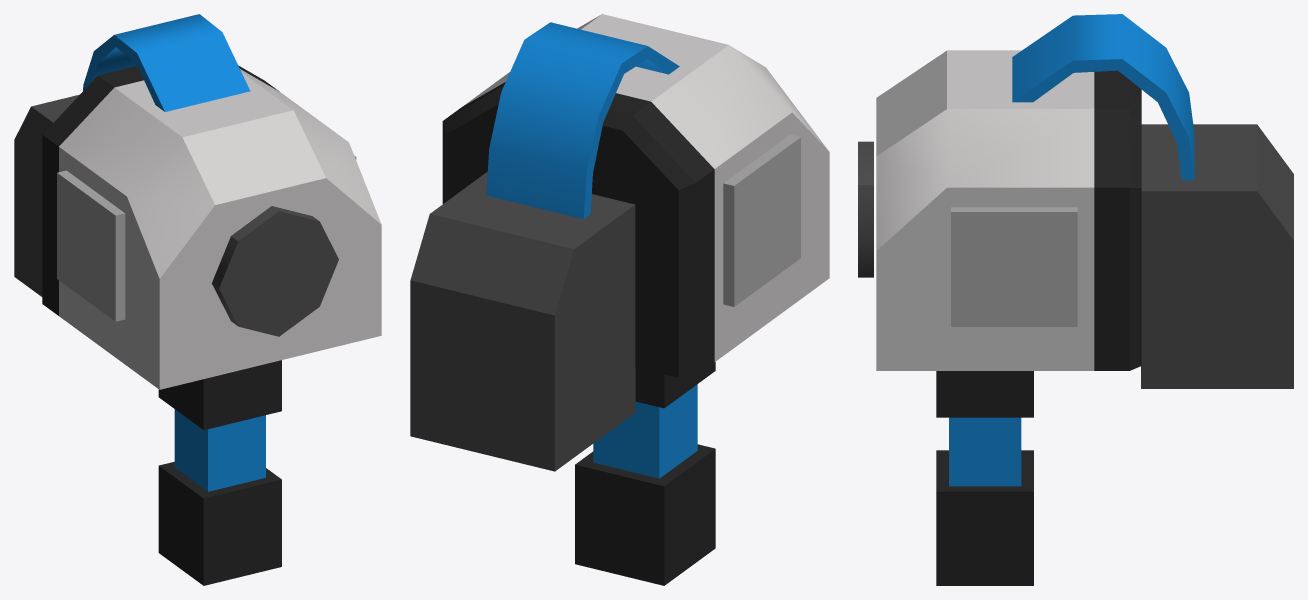
File: BodyGroup.fbx
The picture shows the model from 3 angles, left to right: view 1: azimuth 30°, elevation 25°; view 2: azimuth 150°, elevation 25°; view 3: azimuth 270°, elevation 25°; orthographic projection. The views are drawn at different scales.
Visible parts, largest first — view 1: Gatling:Rod9, Gatling:Base, Gatling:InCore, Gatling:BulletLoad, Gatling:L2, Gatling:Bullet; view 2: Gatling:Bullet, Gatling:Rod9, Gatling:Base, Gatling:BulletLoad, Gatling:L2; view 3: Gatling:Rod9, Gatling:Bullet, Gatling:Base, Gatling:L1, Gatling:BulletLoad, Gatling:InCore.
Part boxes in pixels (x1,y1,x2,y2): Gatling:Rod9: (42, 65, 381, 389); Gatling:Base: (158, 360, 281, 585); Gatling:InCore: (211, 206, 338, 336); Gatling:BulletLoad: (83, 14, 250, 111); Gatling:L2: (57, 170, 125, 321); Gatling:Bullet: (14, 94, 79, 296); Gatling:Bullet: (410, 172, 635, 471); Gatling:Rod9: (442, 14, 829, 377); Gatling:Base: (575, 362, 715, 585); Gatling:BulletLoad: (486, 22, 679, 219); Gatling:L2: (723, 134, 800, 306); Gatling:Rod9: (876, 50, 1141, 370); Gatling:Bullet: (1141, 124, 1293, 388); Gatling:Base: (936, 371, 1033, 585); Gatling:L1: (951, 207, 1077, 326); Gatling:BulletLoad: (1012, 14, 1194, 180); Gatling:InCore: (858, 141, 873, 277).
Bounding box in the file's own units: 1.38 × 2.68 × 2.
